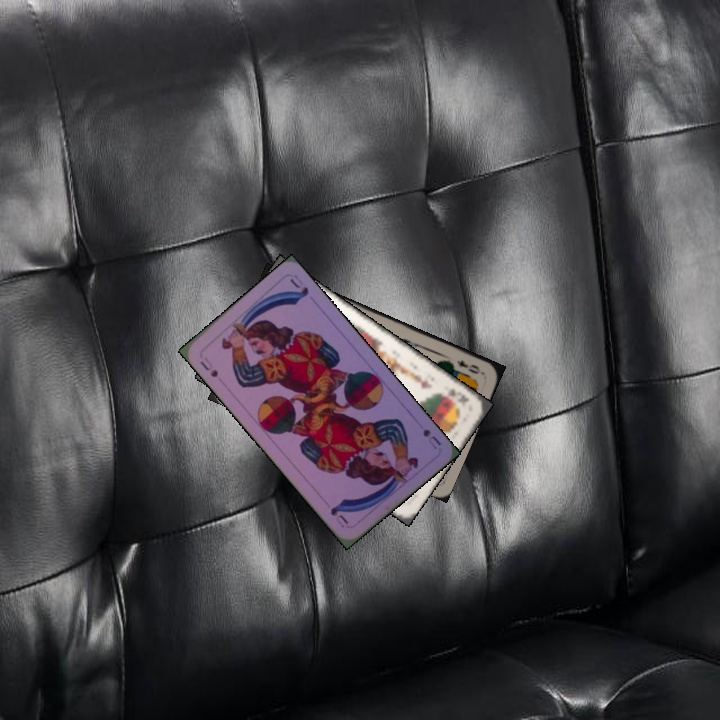EO: (453, 356, 485, 377)
SK: (444, 385, 471, 408)
SU: (418, 425, 444, 452), (196, 353, 221, 380)
